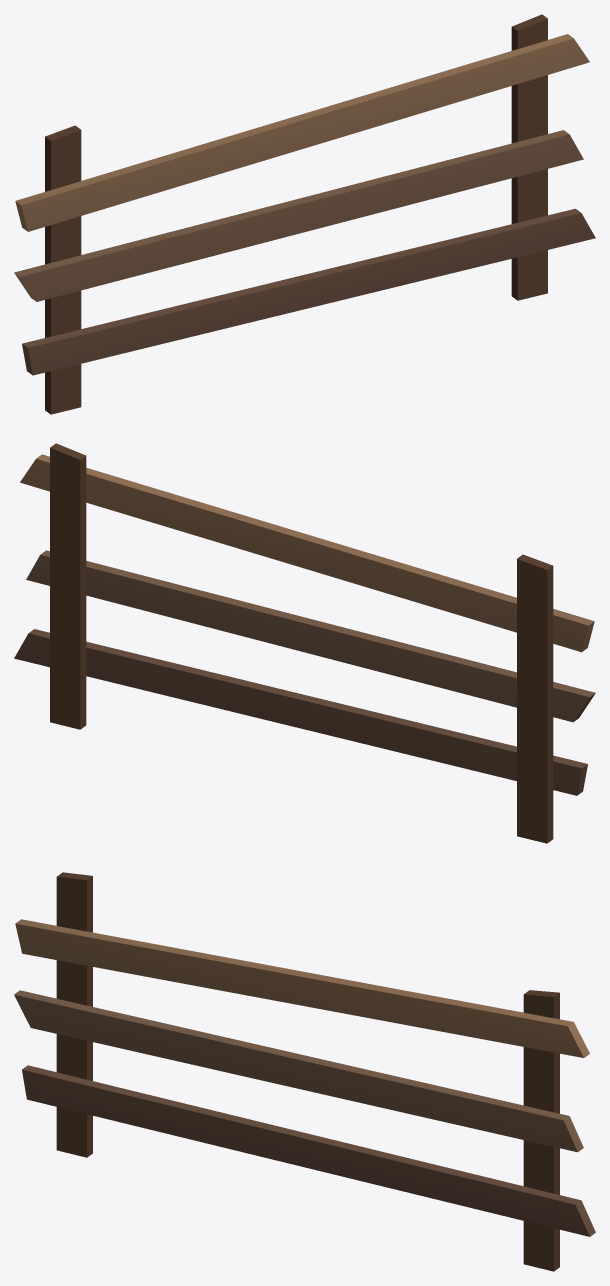
File: Fence Wood V1 2.glb
3 renders of one model, top to bottom at view 1: azimuth 30°, elevation 25°; view 2: azimuth 150°, elevation 25°; view 3: azimuth 330°, elevation 25°, orthographic.
Visible parts, largest first — view 1: Fence Wood V1 2; view 2: Fence Wood V1 2; view 3: Fence Wood V1 2.
Boxes of the visible parts, x1,y1,x2,y2 form: Fence Wood V1 2: [14, 14, 595, 414]; Fence Wood V1 2: [14, 443, 595, 843]; Fence Wood V1 2: [14, 872, 595, 1271].
Size of what is drawn, in the model's own units: 3.07 by 1.41 by 0.1102.
1 material, 1 textured.
